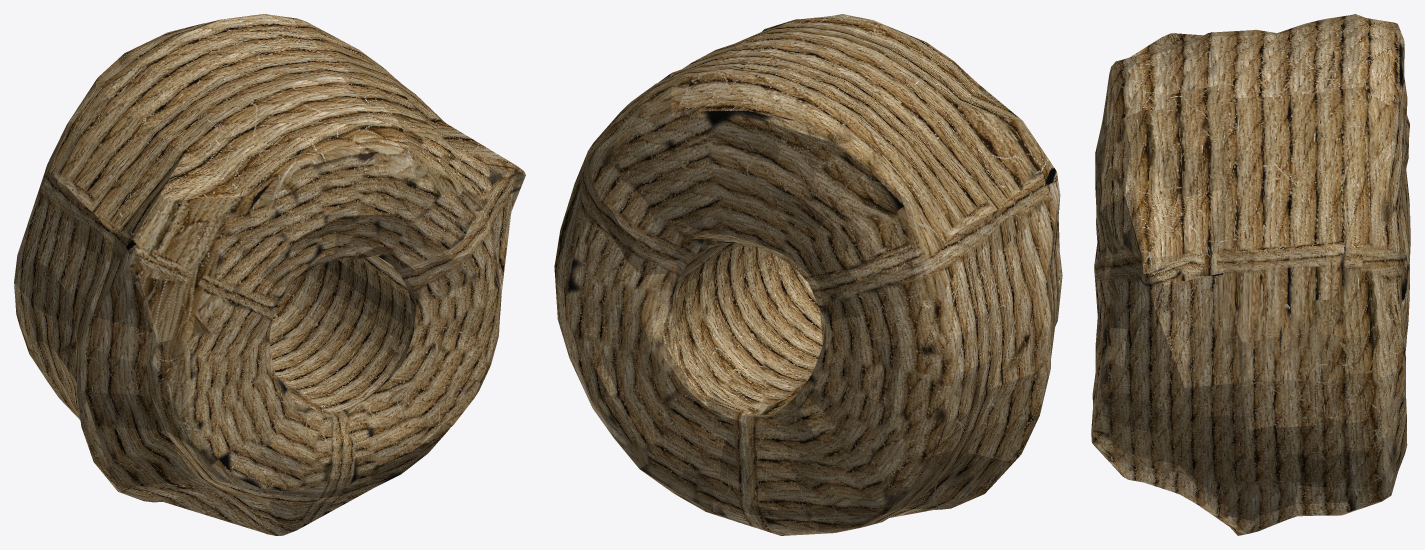
Rendered from fishing_rope_game_ready.fbx.
The picture shows the model from 3 angles, left to right: view 1: azimuth 30°, elevation 25°; view 2: azimuth 150°, elevation 25°; view 3: azimuth 270°, elevation 25°; orthographic projection. The views are drawn at different scales.
Visible parts, largest first — view 1: rope; view 2: rope; view 3: rope.
Boxes of the visible parts, bbox=[...] form: rope: bbox=[14, 14, 525, 535]; rope: bbox=[554, 14, 1062, 535]; rope: bbox=[1091, 14, 1410, 535].
Bounding box in the file's own units: 76.29 × 119 × 123.
